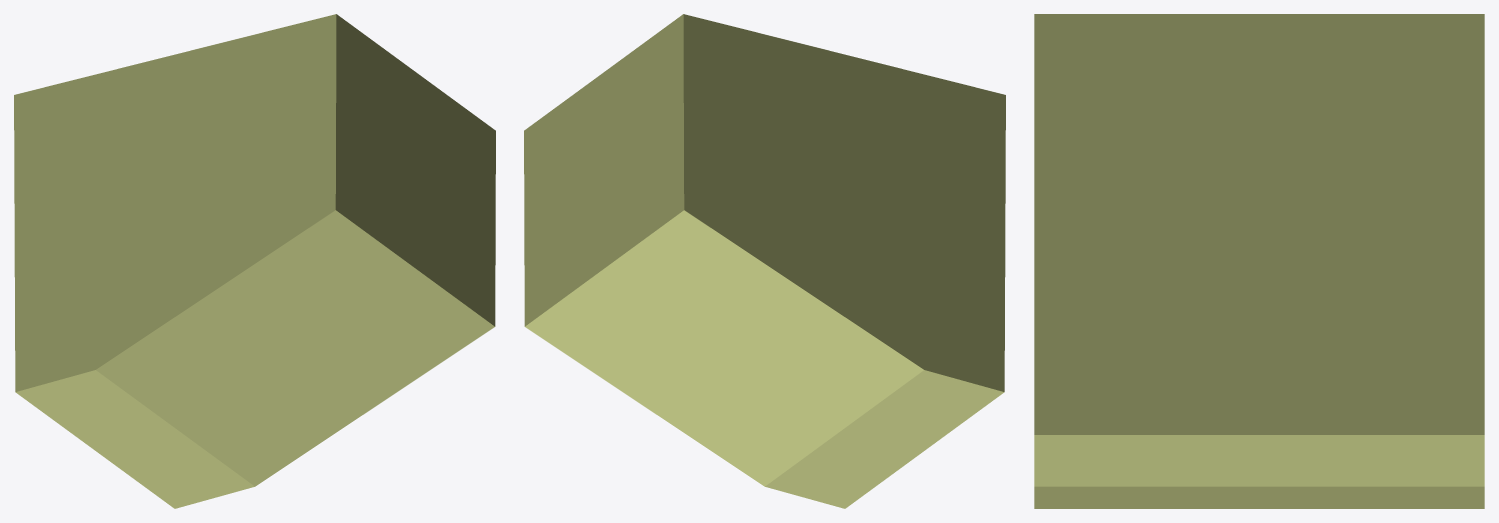
3 views of the same model, side by side, from view 1: azimuth 30°, elevation 25°; view 2: azimuth 150°, elevation 25°; view 3: azimuth 270°, elevation 25° (orthographic). The views are drawn at different scales.
Visible parts, largest first — view 1: 0_3_0_1_2_2_2_2_2_0; view 2: 0_3_0_1_2_2_2_2_2_0; view 3: 0_3_0_1_2_2_2_2_2_0.
Boxes of the visible parts, box(x1,y1,x2,y2) form: 0_3_0_1_2_2_2_2_2_0: box(14, 14, 495, 508); 0_3_0_1_2_2_2_2_2_0: box(524, 14, 1005, 508); 0_3_0_1_2_2_2_2_2_0: box(1034, 14, 1484, 508).
Bounding box in the file's own units: 7 × 6.22 × 6.
